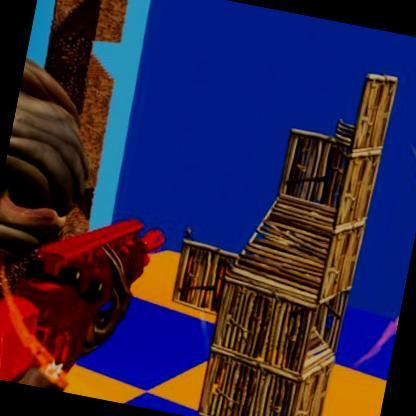person: (186, 226, 196, 236)
